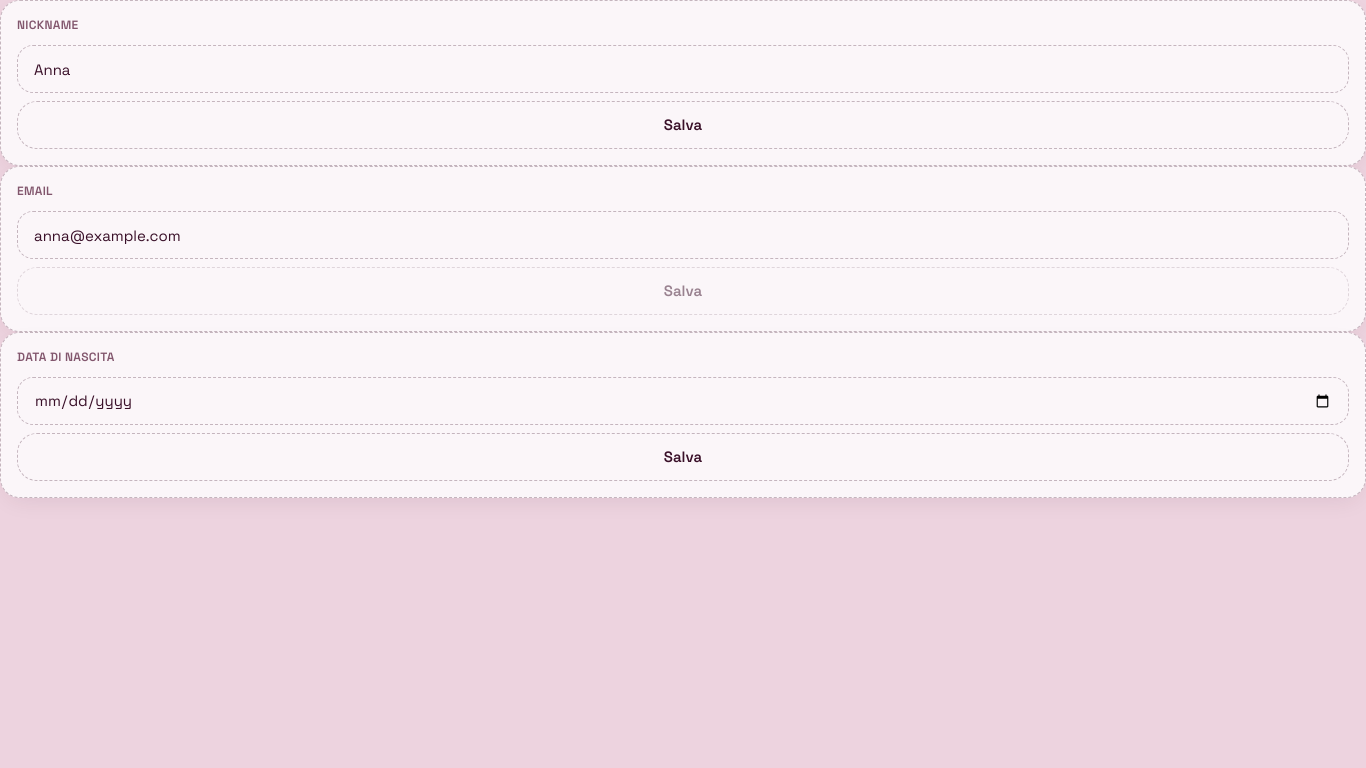
Scenario: ProfileEditForm › mostra l'errore e NON chiama router.refresh() se updateDisplayName fallisce
Step 1. Replace the text in the field named "Nickname" with "x" → (683, 69), box [17,45,1349,93]
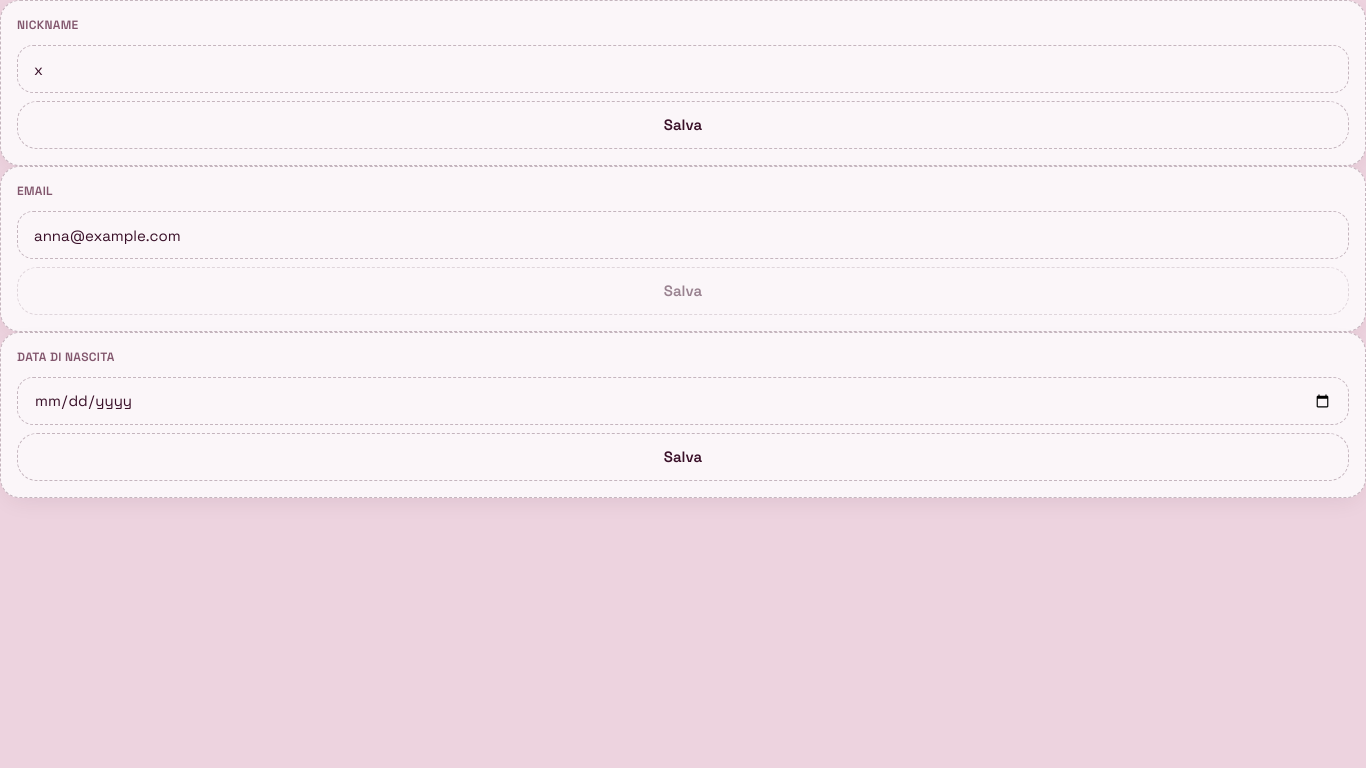
Step 2. Click the button "Salva" below "Nickname" → (683, 125), box [17,101,1349,149]
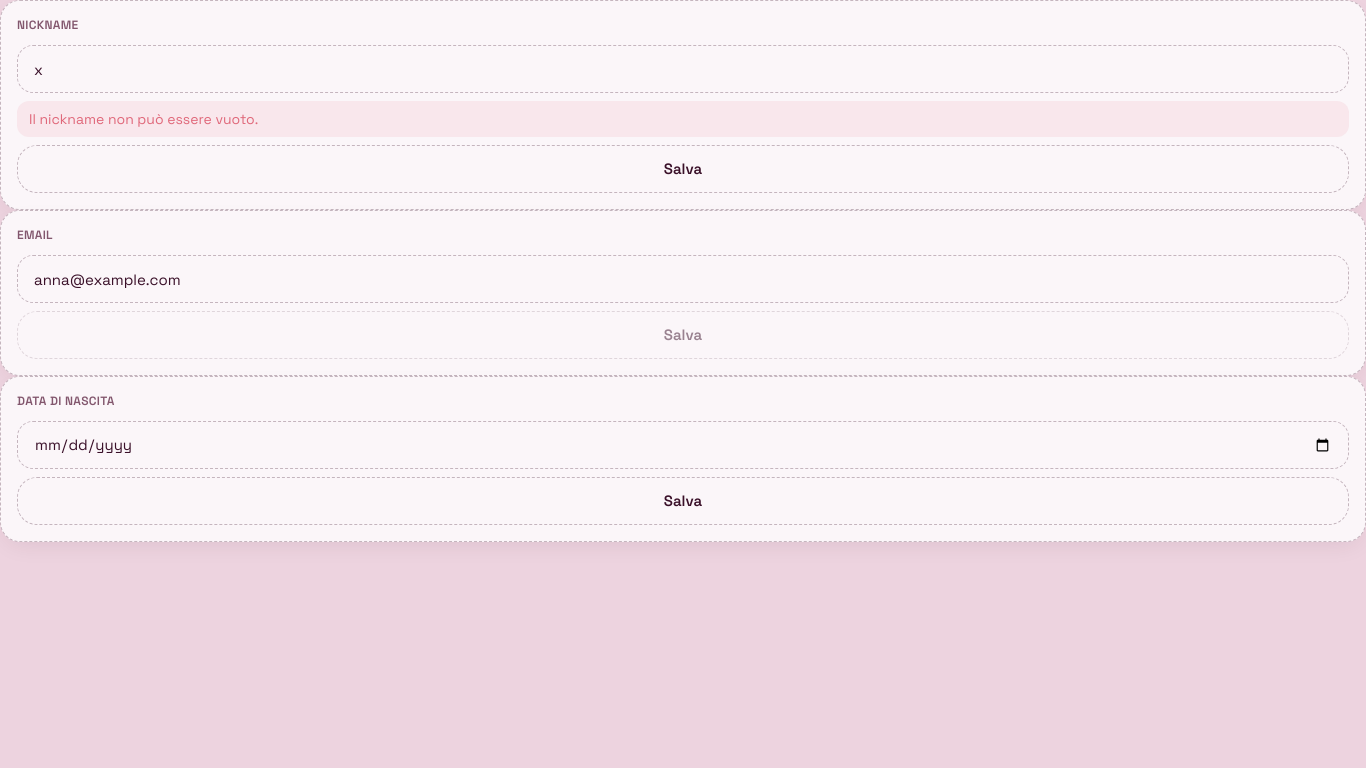
Expected: the text "Il nickname non può essere vuoto." is shown, [17,101,1349,137]
